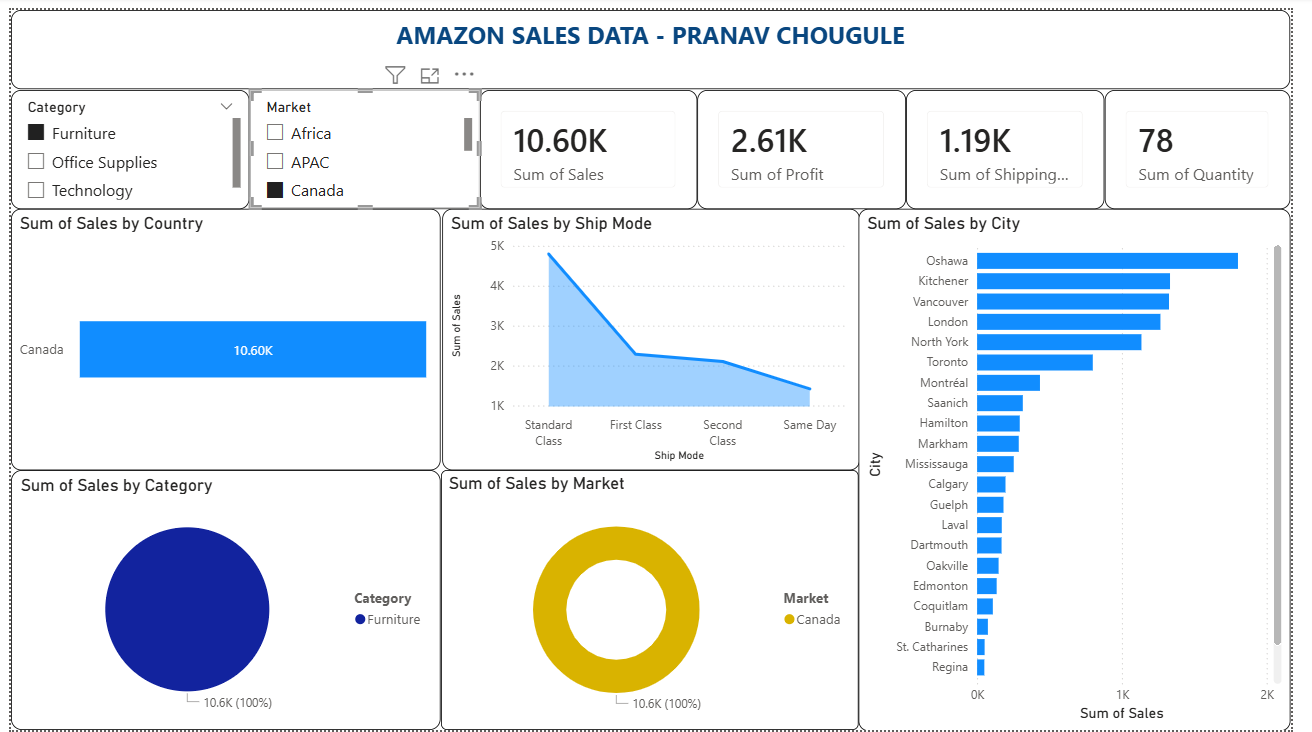

This screenshot's page, from the dashboard's own definition file:
{"tool":"powerbi","page":{"name":"Page 1","canvas":[1280,720],"ordinal":0},"visuals":[{"type":"pieChart","fields":{"Category":["Orders.Category"],"Y":["Sum(Orders.Sales)"]},"box":[0,460.3,429.4,260.3],"z":0},{"type":"donutChart","fields":{"Y":["Sum(Orders.Sales)"],"Category":["Orders.Market"]},"box":[429.4,460.3,417.6,260.3],"z":1000},{"type":"areaChart","fields":{"Category":["Orders.Ship Mode"],"Y":["Sum(Orders.Sales)"]},"box":[430.9,198.5,417.6,261.8],"z":2000},{"type":"clusteredBarChart","fields":{"Category":["Orders.City"],"Y":["Sum(Orders.Sales)"]},"box":[847.1,198.5,432.4,522.1],"z":3000},{"type":"funnel","fields":{"Category":["Orders.Country"],"Y":["Sum(Orders.Sales)"]},"box":[0,198.5,429.4,261.8],"z":4000},{"type":"textbox","box":[0,0,1279.4,79.4],"z":5000},{"type":"slicer","fields":{"Values":["Orders.Category"]},"box":[0,79.4,238.2,119.1],"z":6000},{"type":"slicer","fields":{"Values":["Orders.Market"]},"box":[238.2,79.4,230.9,119.1],"z":7000},{"type":"cardVisual","fields":{"Data":["Sum(Orders.Sales)"]},"box":[469.1,79.4,217.6,119.1],"z":8000},{"type":"cardVisual","fields":{"Data":["Sum(Orders.Profit)"]},"box":[686.8,79.4,208.8,119.1],"z":9000},{"type":"cardVisual","fields":{"Data":["Sum(Orders.Shipping Cost)"]},"box":[895.6,79.4,198.5,119.1],"z":10000},{"type":"cardVisual","fields":{"Data":["Sum(Orders.Quantity)"]},"box":[1094.1,79.4,185.3,119.1],"z":11000}]}

Visuals, with their boxes in screenshot pixels (x1, y1, x2, y2), scaled from the page's 1280x720 canvas onto the 1312x732 screenshot:
pieChart - Orders.Category x Sum(Orders.Sales): (x1=0, y1=468, x2=440, y2=731)
donutChart - Sum(Orders.Sales) x Orders.Market: (x1=440, y1=468, x2=868, y2=731)
areaChart - Orders.Ship Mode x Sum(Orders.Sales): (x1=442, y1=202, x2=870, y2=468)
clusteredBarChart - Orders.City x Sum(Orders.Sales): (x1=868, y1=202, x2=1311, y2=731)
funnel - Orders.Country x Sum(Orders.Sales): (x1=0, y1=202, x2=440, y2=468)
textbox: (x1=0, y1=0, x2=1311, y2=81)
slicer - Orders.Category: (x1=0, y1=81, x2=244, y2=202)
slicer - Orders.Market: (x1=244, y1=81, x2=481, y2=202)
cardVisual - Sum(Orders.Sales): (x1=481, y1=81, x2=704, y2=202)
cardVisual - Sum(Orders.Profit): (x1=704, y1=81, x2=918, y2=202)
cardVisual - Sum(Orders.Shipping Cost): (x1=918, y1=81, x2=1121, y2=202)
cardVisual - Sum(Orders.Quantity): (x1=1121, y1=81, x2=1311, y2=202)
